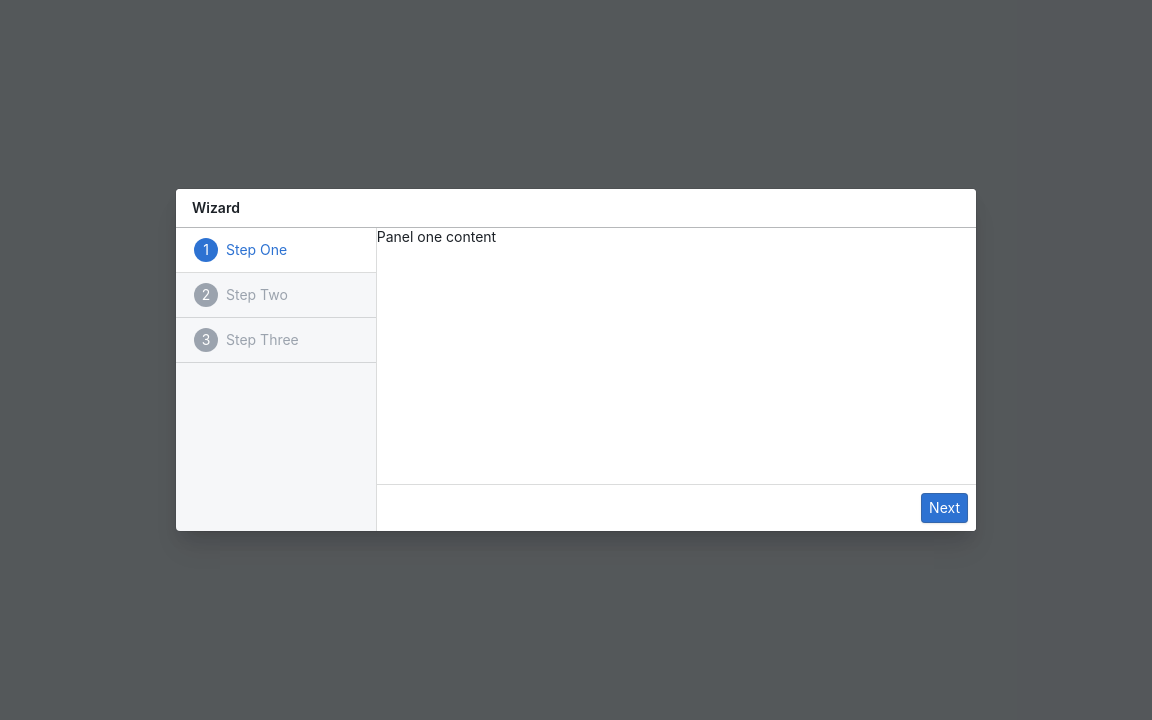
Test: MultistepDialog › clicking a completed rail step navigates back to it
This screenshot has width=1152, height=720.
Click the button "Next": (945, 508) [921, 493, 968, 523]
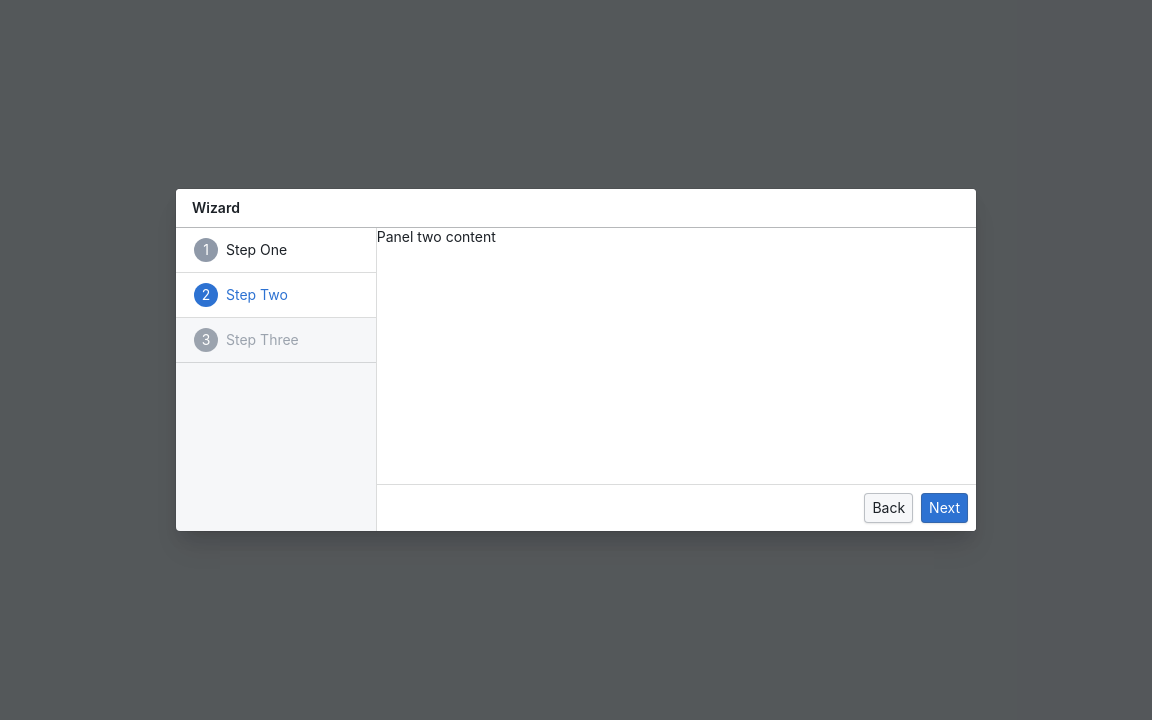
Click the button "Next": (945, 508) [921, 493, 968, 523]
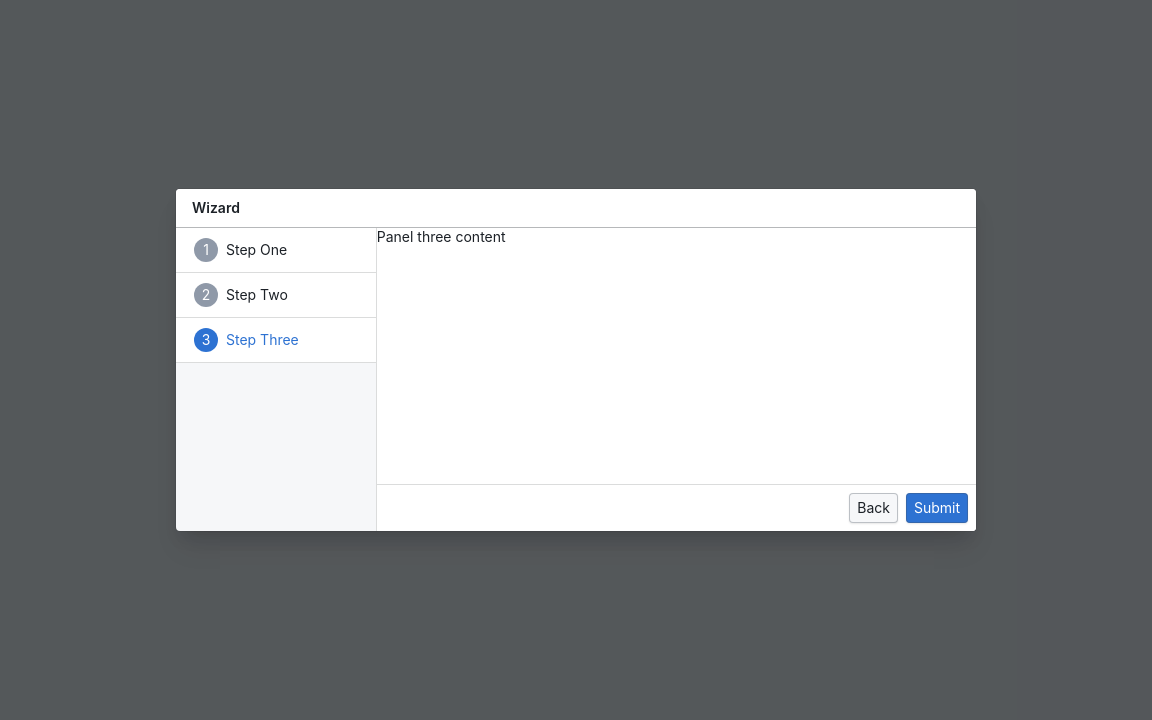
Step 1 has been viewed → clicking its rail tab navigates there.
Click the tab "1 Step One": (276, 250) [180, 232, 372, 268]
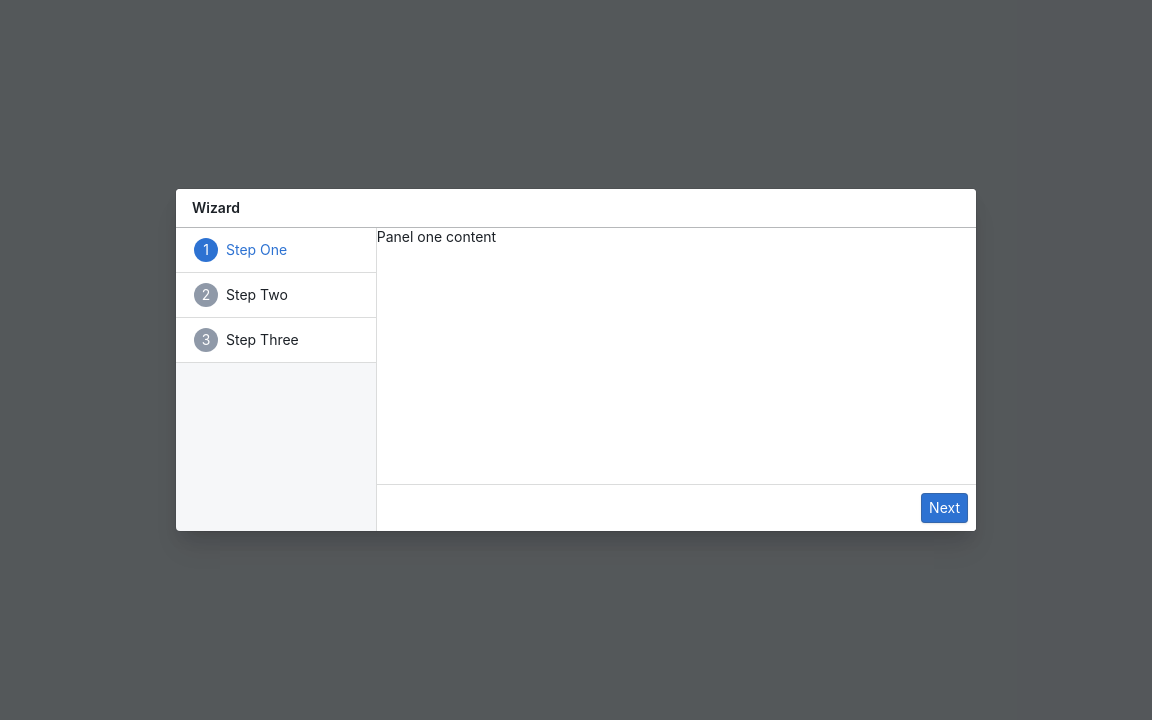
Expected: the text "Panel one content" is shown, [377, 228, 496, 245]
